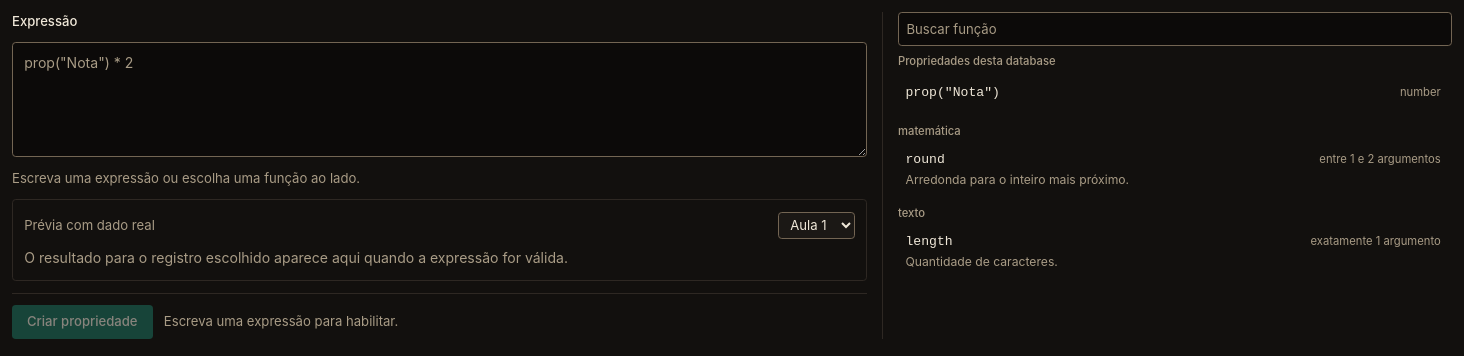
Scenario: a paleta › clicar numa função insere `nome()` na expressão; clicar numa propriedade insere prop("Nome")
Click the button "round".
click(925, 159)  # box x1=898 y1=144 x2=1448 y2=194
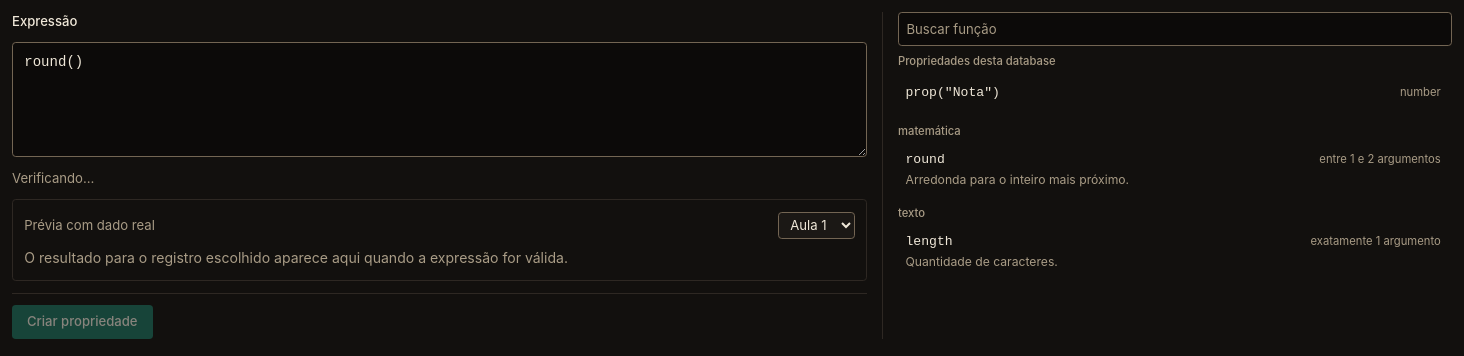
Expected: the text box labelled "Expressão" holds "round()", x1=13 y1=43 x2=866 y2=156
Click the button "prop(\"Nota\") number".
click(929, 92)  # box x1=898 y1=74 x2=1448 y2=112
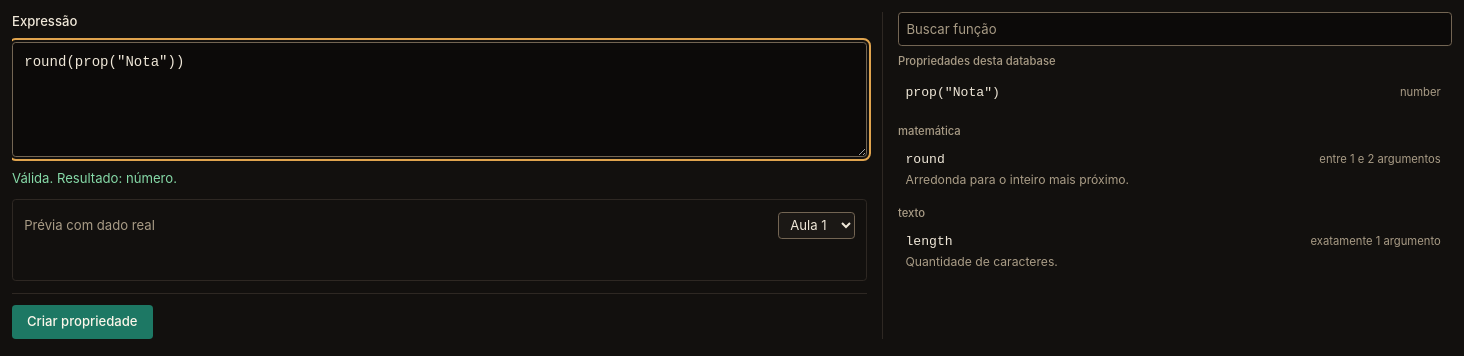
Expected: the text box labelled "Expressão" holds "round(prop(\"Nota\"))", x1=13 y1=43 x2=866 y2=156
